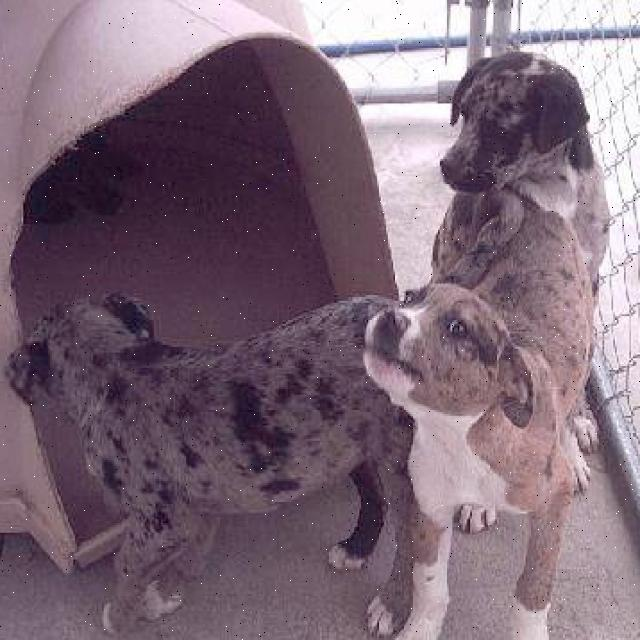Dog: (334, 261, 562, 463), (427, 28, 592, 223)
